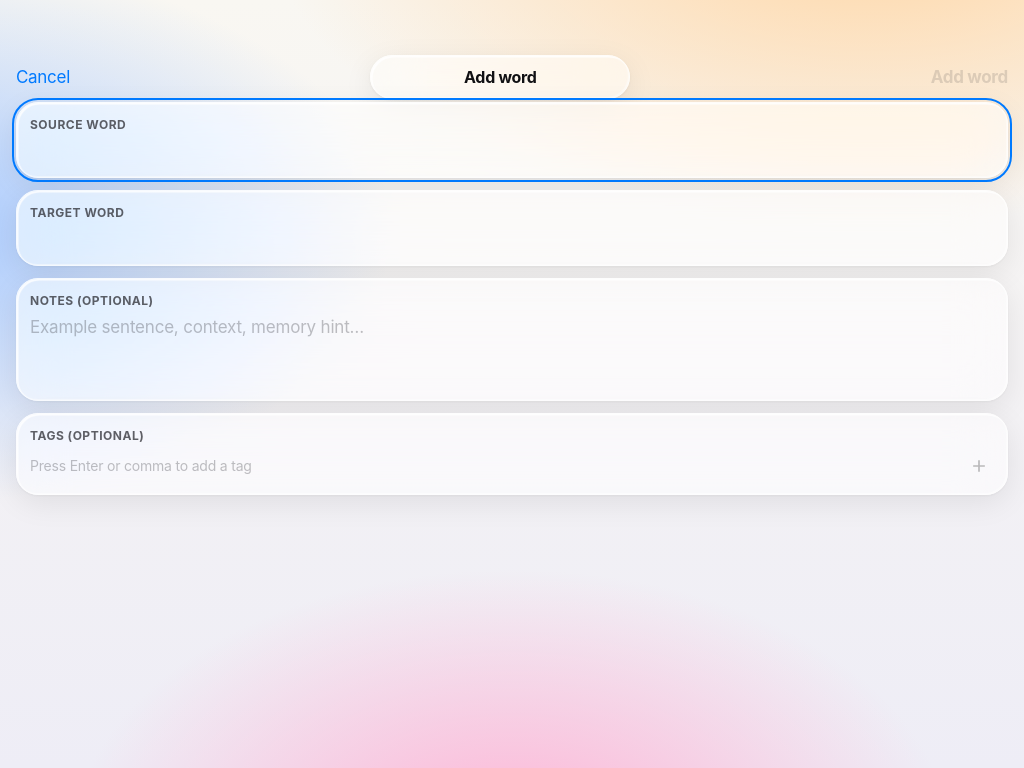
WordFormDialog › should add a tag when pressing Enter in the tag field
This screenshot has width=1024, height=768.
Type "food" into the field named "Tags" at (493,466), box [30,454,956,478]
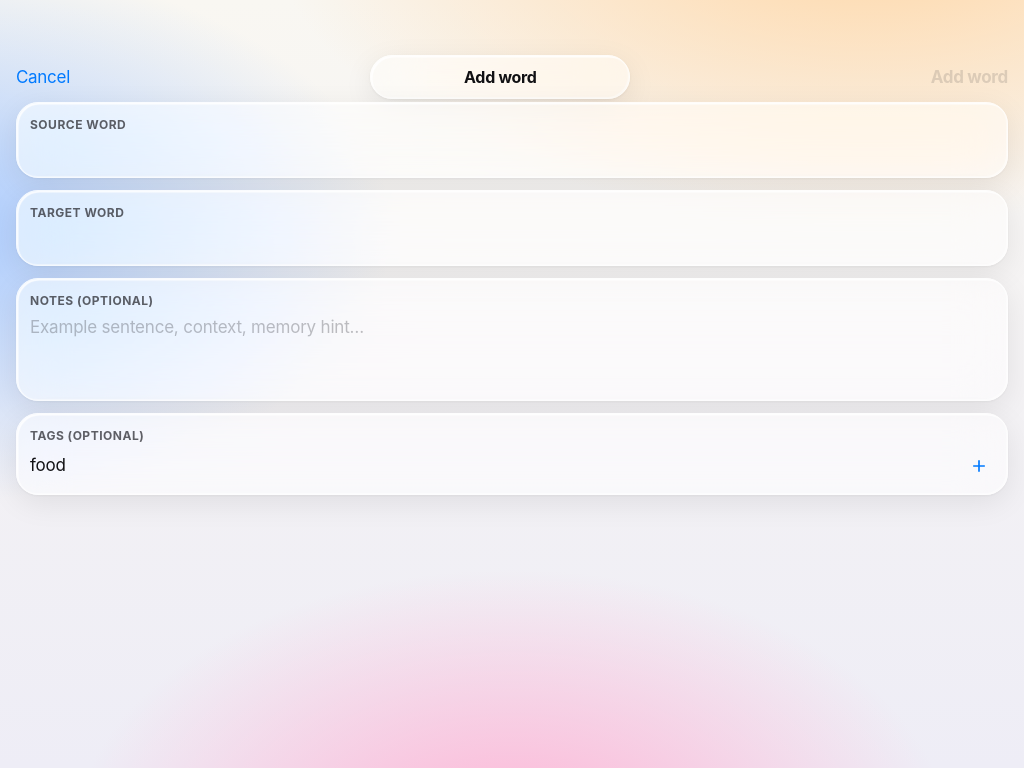
Press Enter
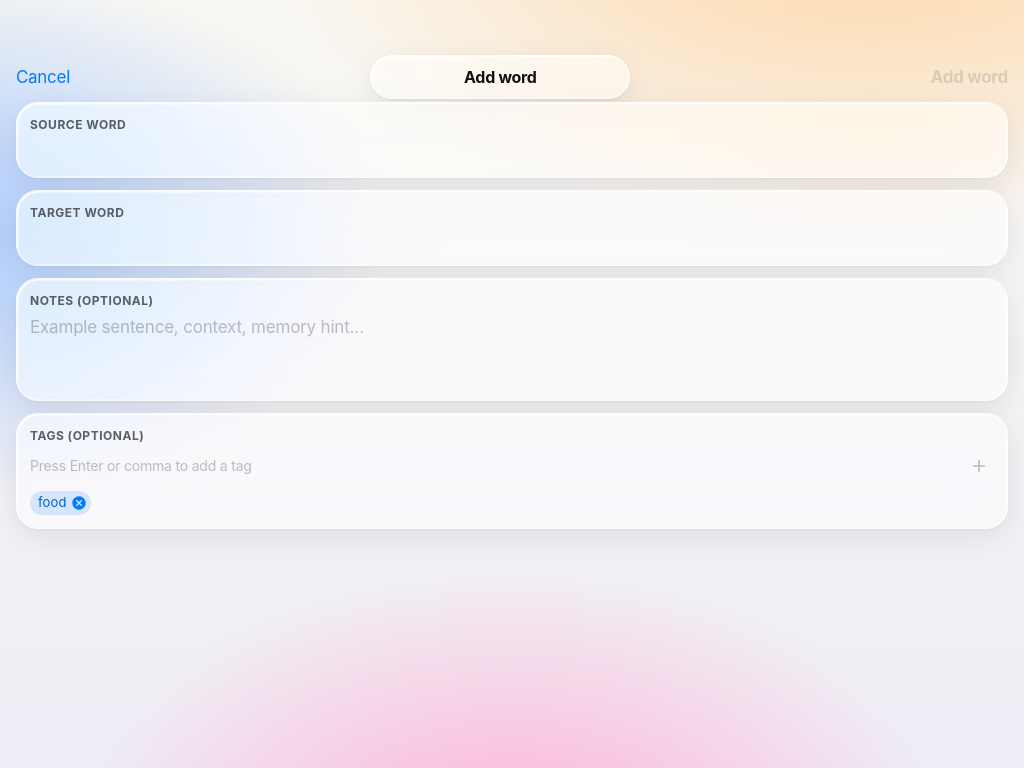
Result: the text "food" is shown at [38,494,67,510]
